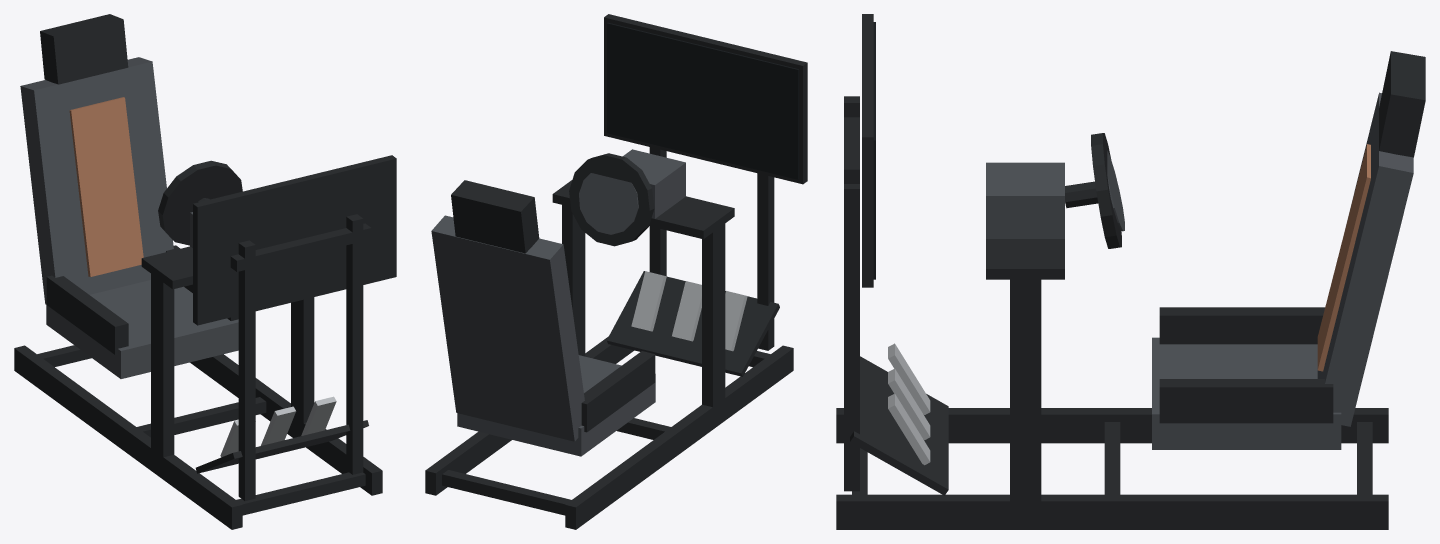
The model's file is sim_rig.glb.
The picture shows the model from 3 angles, left to right: view 1: azimuth 30°, elevation 25°; view 2: azimuth 150°, elevation 25°; view 3: azimuth 270°, elevation 25°; orthographic projection. The views are drawn at different scales.
Parts seen in each view (by area): view 1: sim_rig; view 2: sim_rig; view 3: sim_rig.
Boxes of the visible parts, x1,y1,x2,y2 form: sim_rig: [14, 14, 396, 529]; sim_rig: [425, 14, 807, 529]; sim_rig: [836, 14, 1425, 529].
Size of the model in its own units: 0.74 by 1.15 by 1.49.
